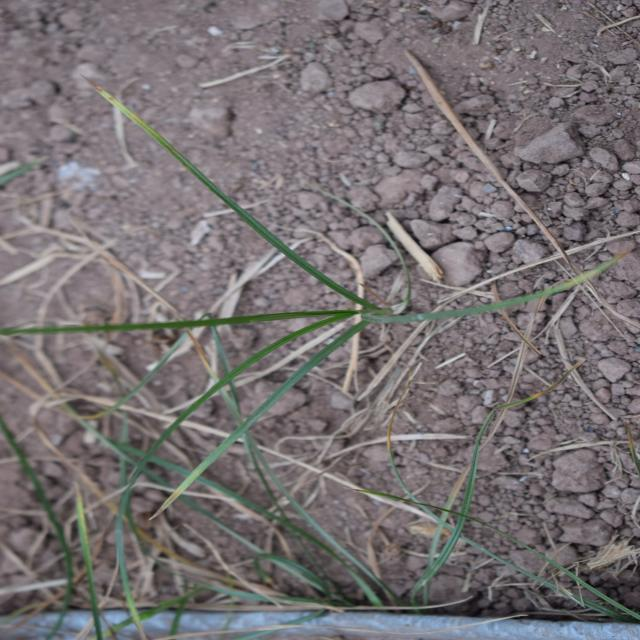sedge: (119, 39, 478, 581)
